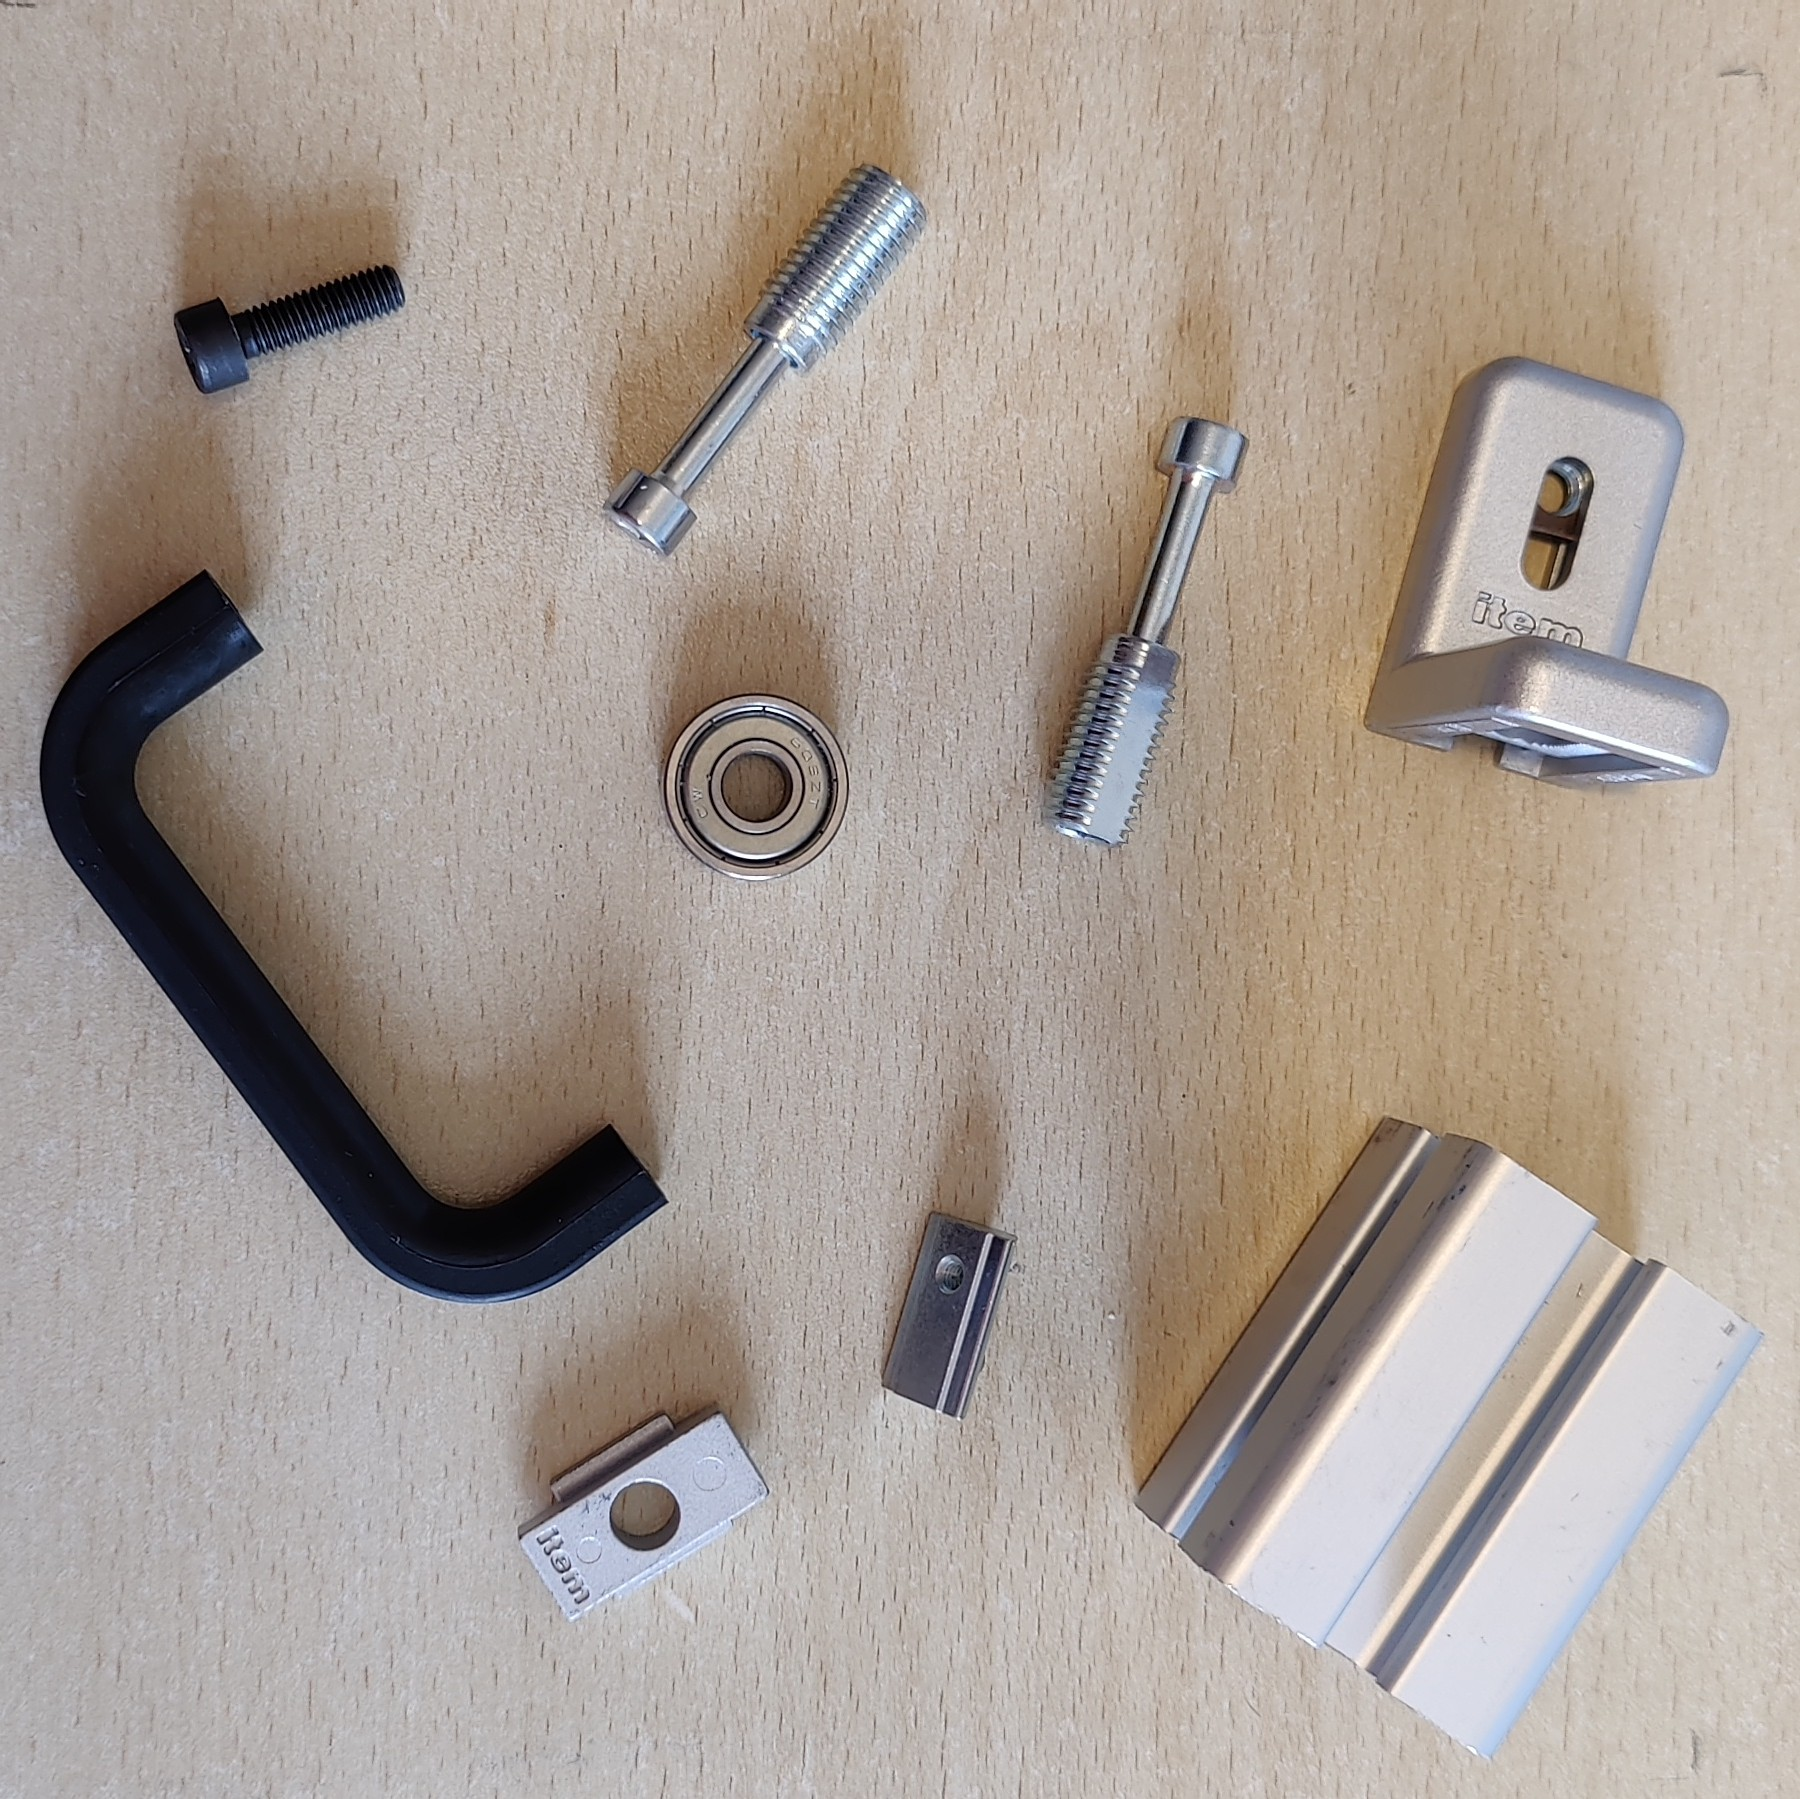Aluminium Extension: (1126, 1107, 1769, 1764)
Ball Bearing: (660, 689, 851, 883)
Multiwinkel: (1359, 353, 1732, 796)
Pull Handle: (36, 563, 670, 1306)
Shoulder Socket Head Cap Screw: (595, 161, 929, 563), (1039, 409, 1252, 852)
Socket Head Cap Screw: (170, 260, 408, 395)
T Nut Square: (515, 1394, 772, 1624)
T Spring Nut: (878, 1204, 1021, 1423)
